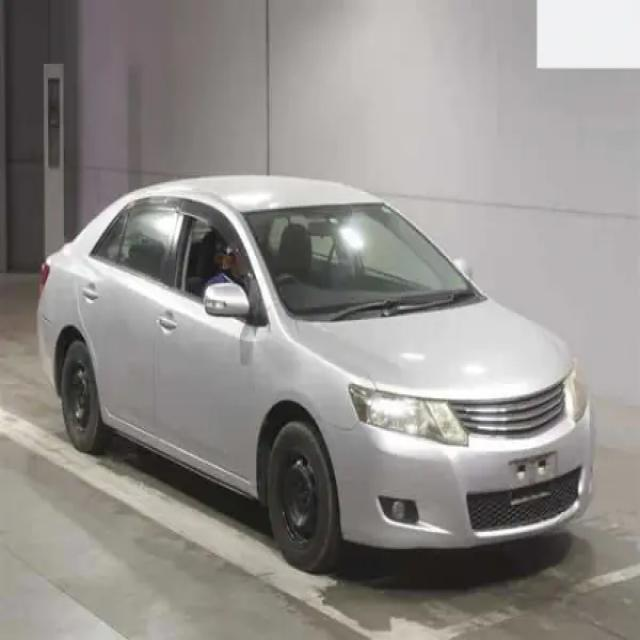white: (37, 178, 595, 576)
